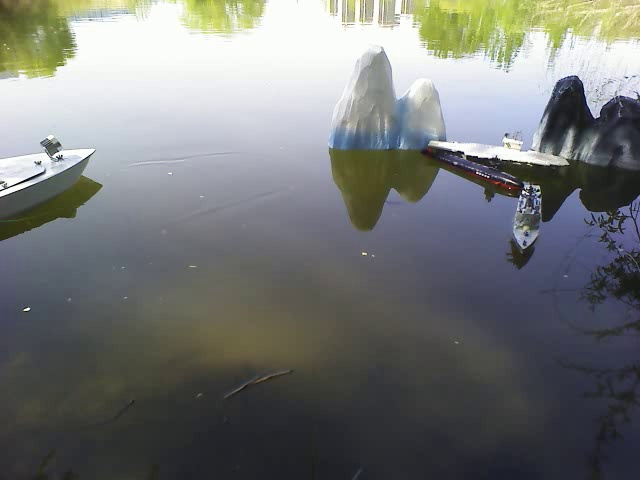aircraft_carrier: (428, 135, 571, 174)
boat: (3, 133, 100, 223)
iceberg: (325, 44, 451, 155)
rock: (533, 71, 638, 170)
submarine: (428, 150, 522, 194)
warship: (511, 180, 548, 256)
